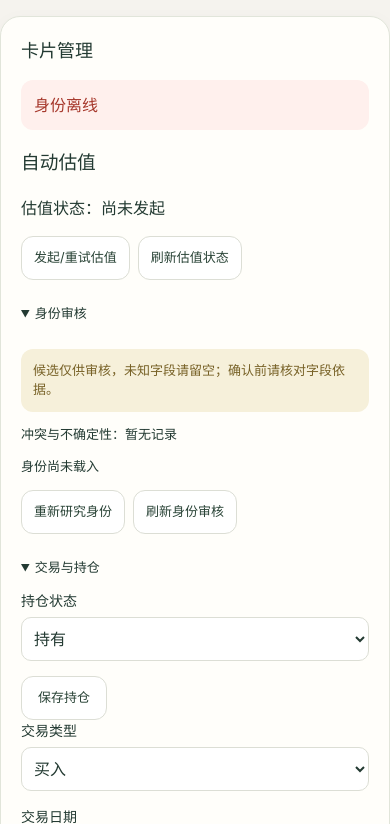
Test case: can load the identity editor after an initial network failure
The width and height of the screenshot is (390, 824).
Expected: the text "身份离线" is shown, top-left (21, 80), bottom-right (369, 130)
Click the button "刷新身份审核".
click(185, 512)  # box top-left (133, 490), bottom-right (237, 534)
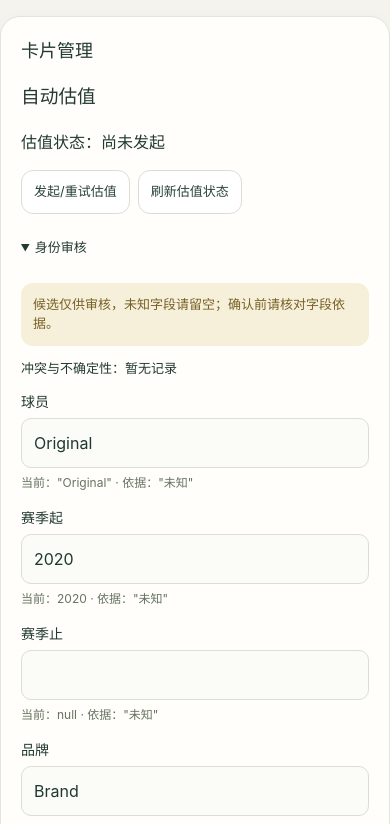
Expected: the field showing "Original" is shown, top-left (21, 418), bottom-right (369, 468)
